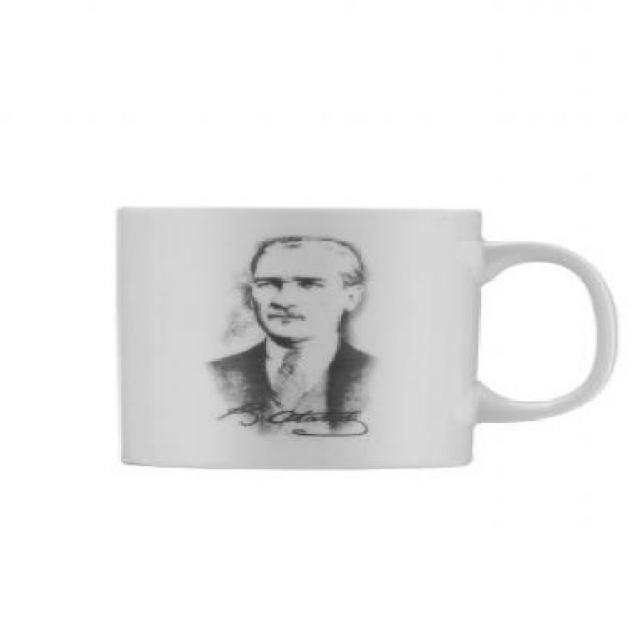taza: (115, 202, 620, 472)
